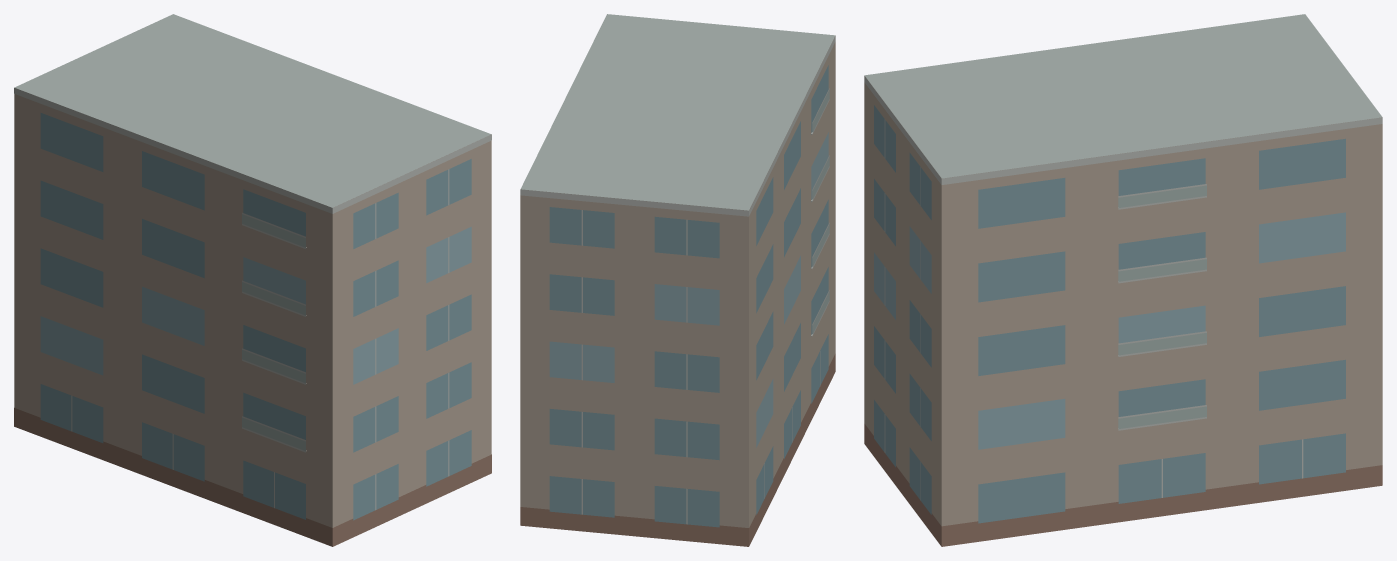
File: survey-upis-33016117.glb
3 renders of one model, left to right at view 1: azimuth 30°, elevation 25°; view 2: azimuth 150°, elevation 25°; view 3: azimuth 270°, elevation 25°, orthographic. The views are drawn at different scales.
Visible parts, largest first — view 1: survey-upis-33016117.tmp; view 2: survey-upis-33016117.tmp; view 3: survey-upis-33016117.tmp.
Boxes of the visible parts, box(x1,y1,x2,y2) form: survey-upis-33016117.tmp: box(14, 14, 491, 546); survey-upis-33016117.tmp: box(520, 14, 835, 546); survey-upis-33016117.tmp: box(864, 14, 1382, 546).
Size of the model in its own units: 12.97 by 13.53 by 17.27.
